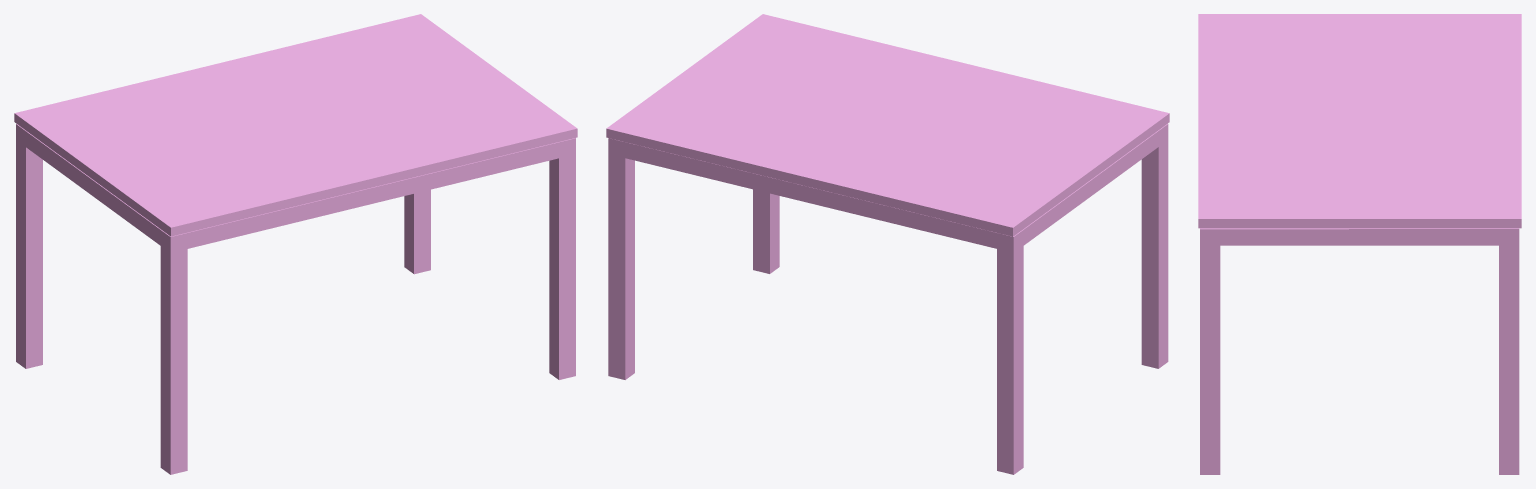
The model's file is table.FBX.
3 renders of one model, left to right at view 1: azimuth 30°, elevation 25°; view 2: azimuth 150°, elevation 25°; view 3: azimuth 270°, elevation 25°, orthographic. The views are drawn at different scales.
Parts seen in each view (by area): view 1: Box020, Box022; view 2: Box020, Box022; view 3: Box020, Box022.
Boxes of the visible parts, x1,y1,x2,y2 form: Box020: [14, 14, 577, 236]; Box022: [16, 124, 575, 474]; Box020: [606, 14, 1169, 236]; Box022: [608, 123, 1168, 474]; Box020: [1198, 14, 1521, 228]; Box022: [1200, 228, 1519, 474].
Bounding box in the file's own units: 47.24 × 27.53 × 31.5.
